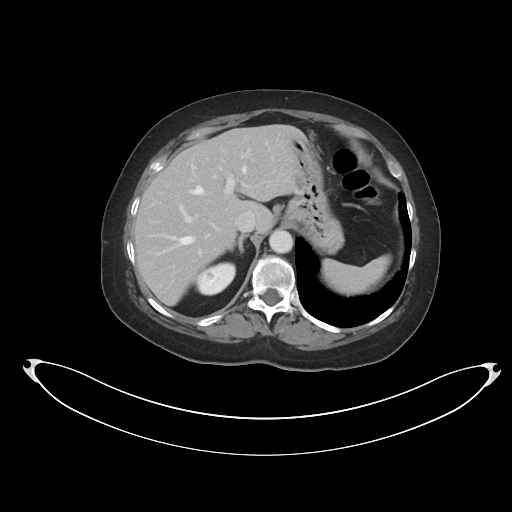Lesion: (203, 269, 218, 282)
